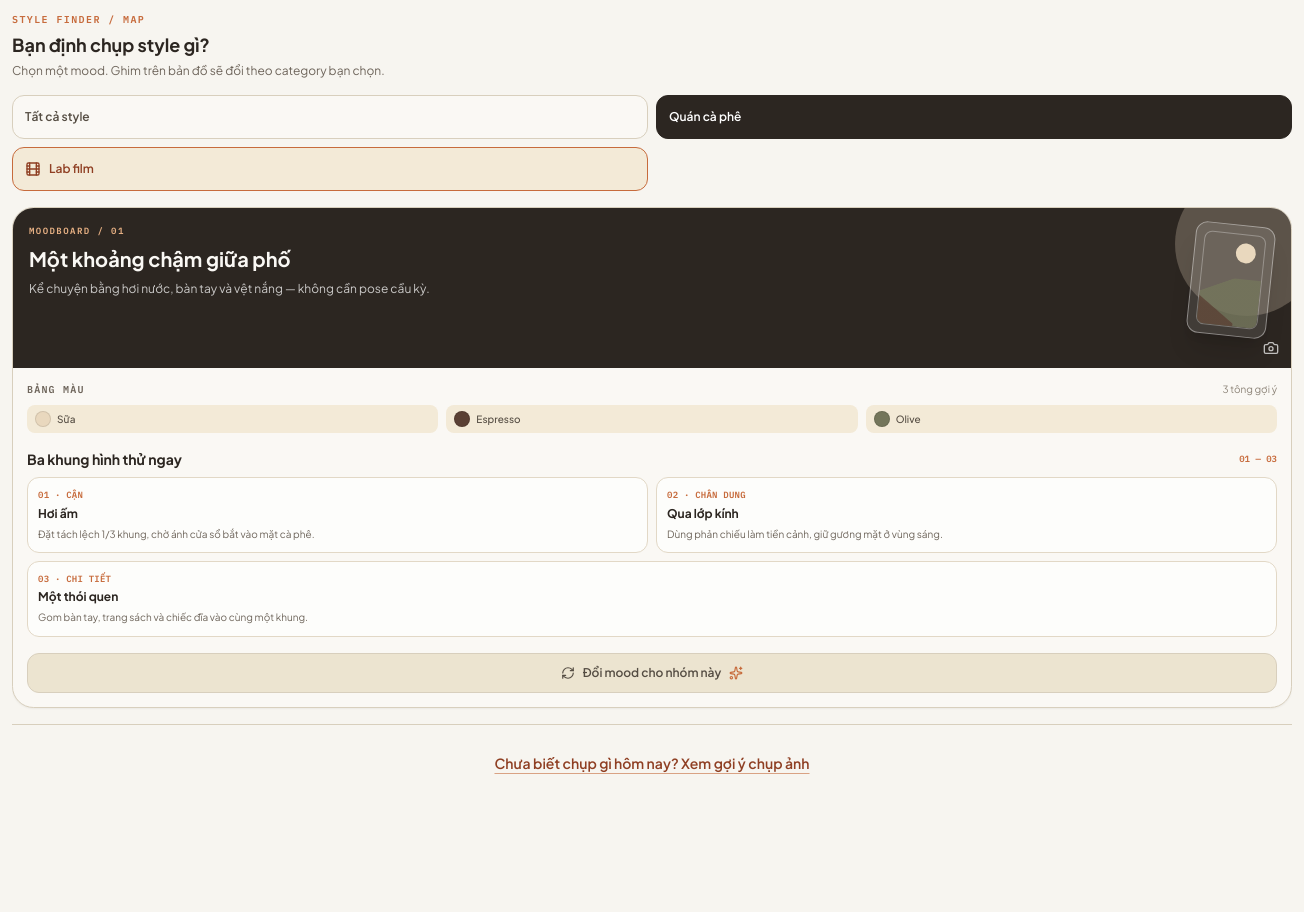
Test case: MapStyleCategoryBrowser › cycles to a different creative direction without changing locations
Click the button "Đổi mood cho nhóm này": x=652, y=672 [27,652,1277,692]
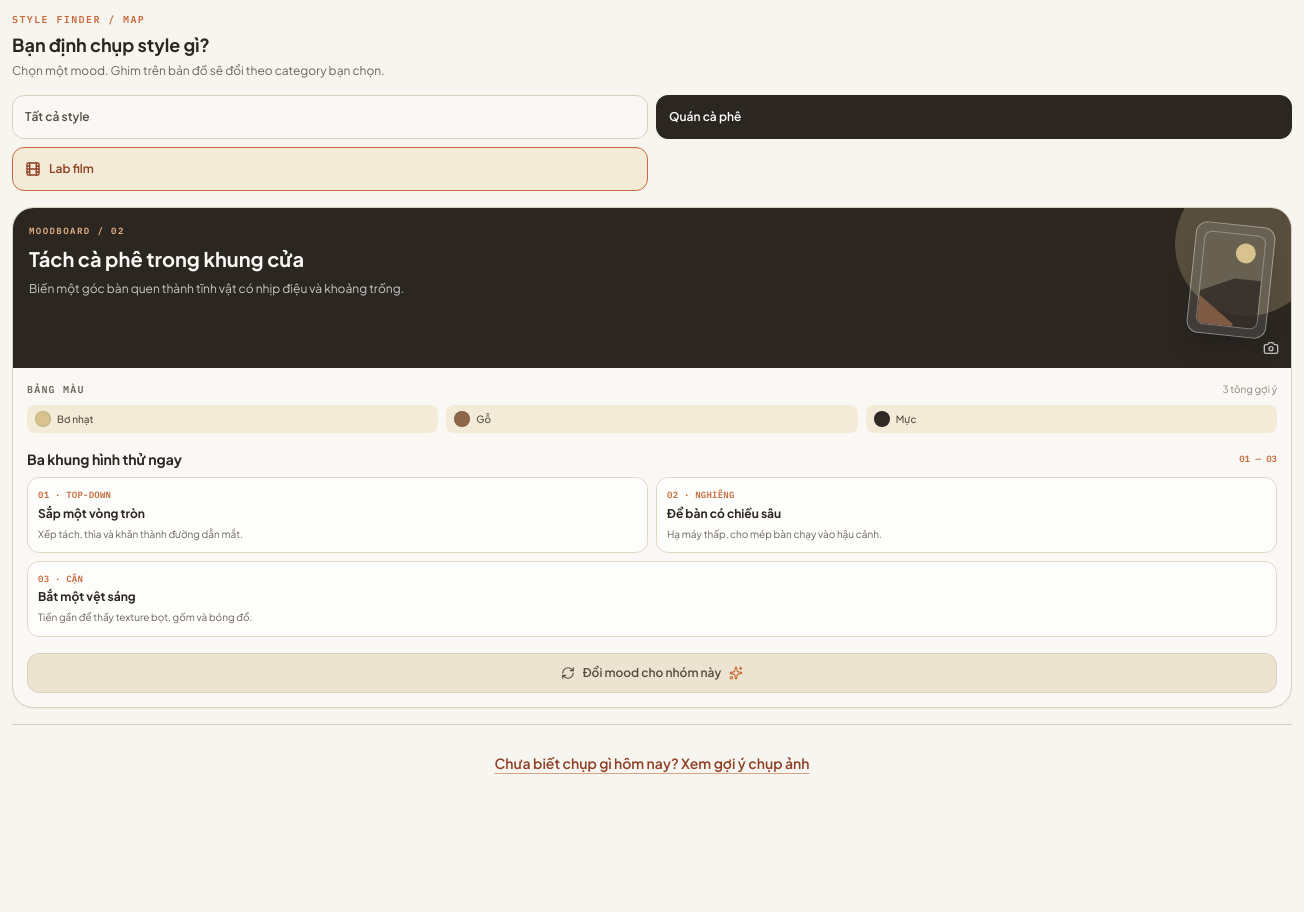
Now the heading "Tách cà phê trong khung cửa" is shown, box [29,246,304,270]
